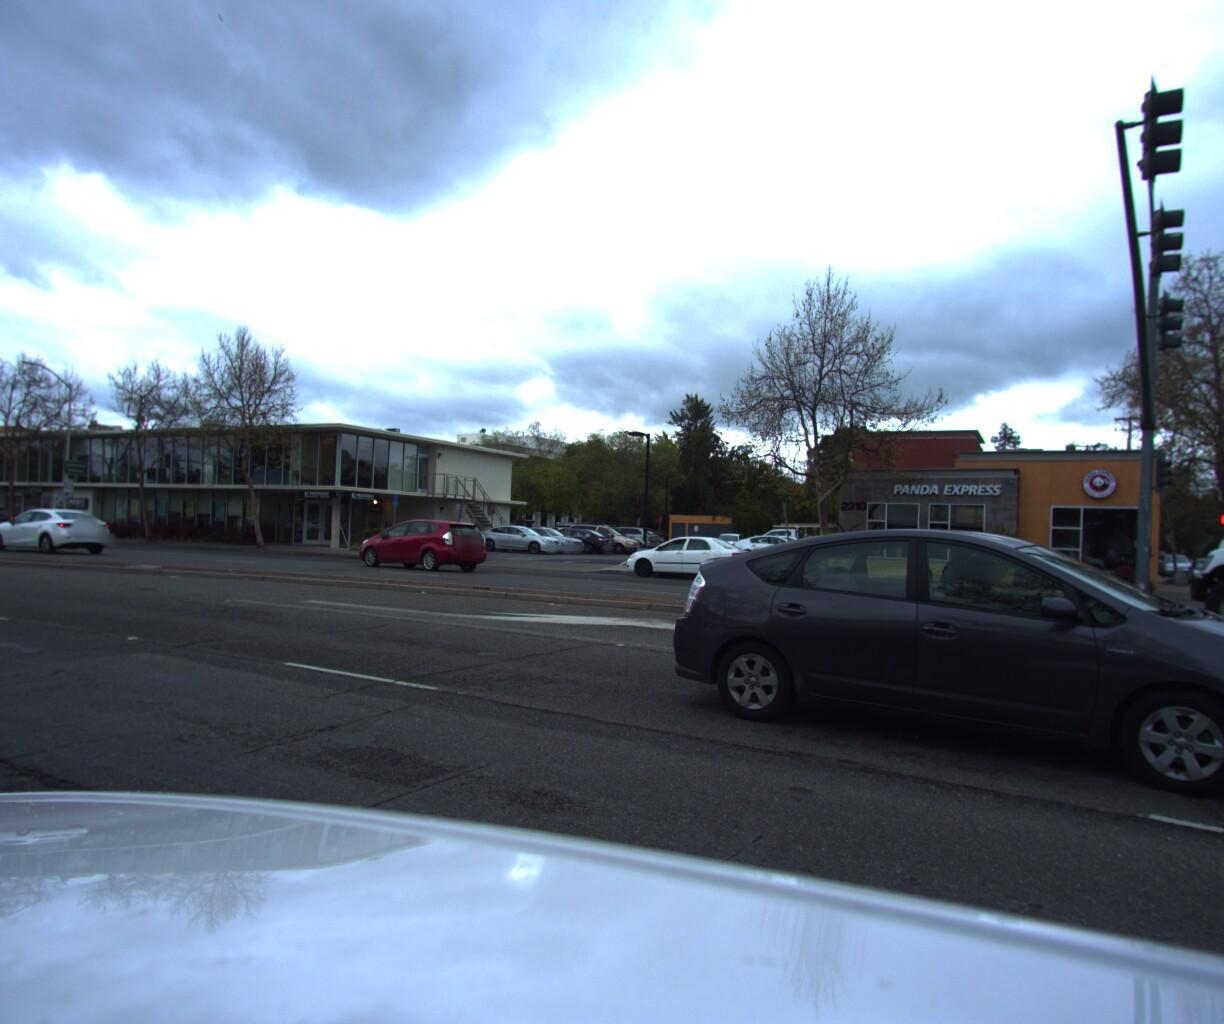car: (631, 507, 1224, 825), (615, 537, 764, 596), (346, 523, 490, 582), (0, 510, 117, 562), (1150, 562, 1194, 586), (0, 505, 18, 550)
truck: (1144, 0, 1224, 1024)
